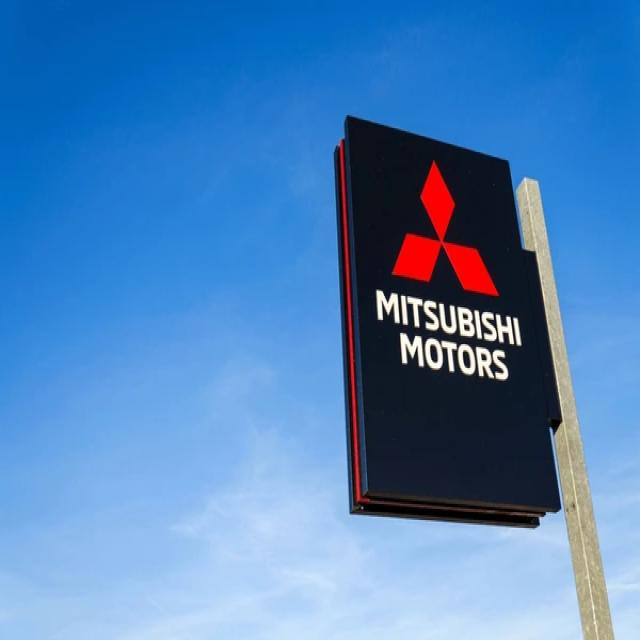mitsubishi: (391, 158, 504, 292)
